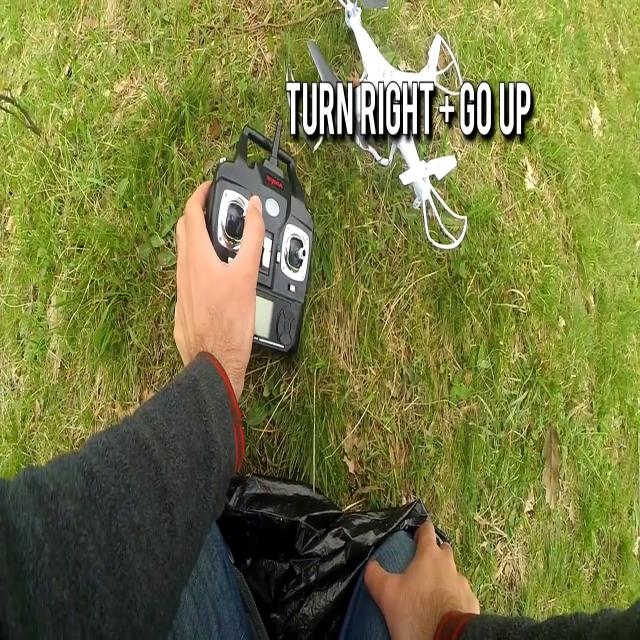drones: (335, 0, 474, 272)
